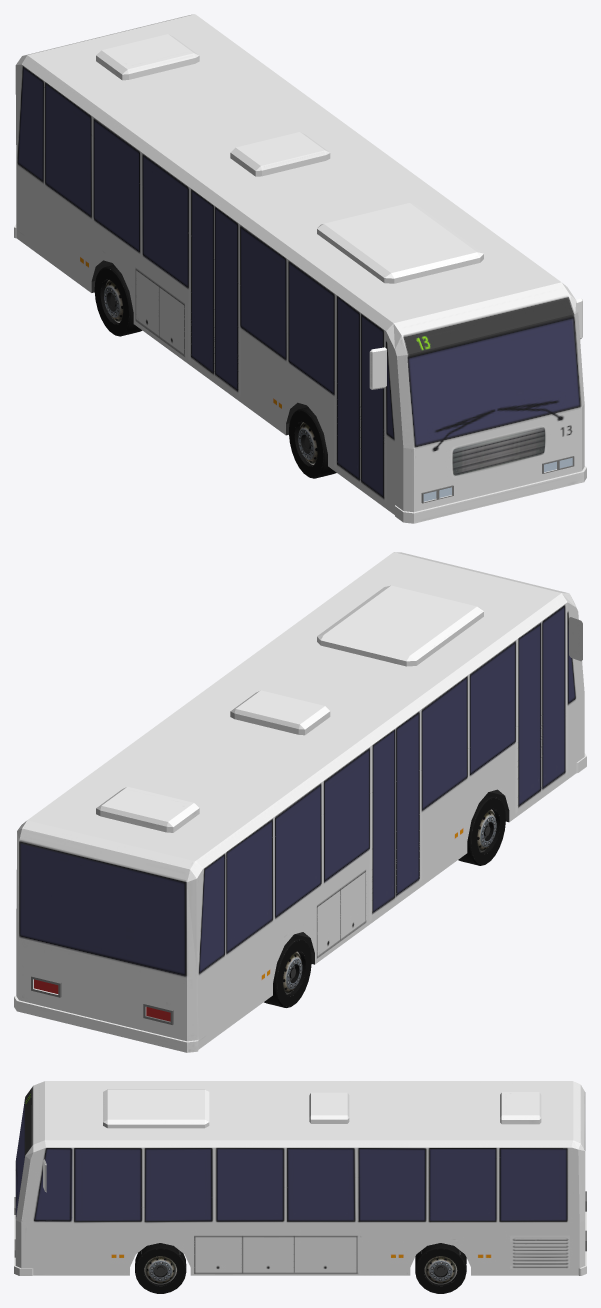
3 renders of one model, top to bottom at view 1: azimuth 30°, elevation 25°; view 2: azimuth 150°, elevation 25°; view 3: azimuth 270°, elevation 25°, orthographic. The views are drawn at different scales.
Visible parts, largest first — view 1: Cube_1, front_wheel_3; view 2: Cube_1, front_wheel_3; view 3: Cube_1, front_wheel_3.
Part boxes in pixels (x1=…): Cube_1: x1=14, y1=14, x2=586, y2=523; front_wheel_3: x1=94, y1=265, x2=336, y2=478; Cube_1: x1=14, y1=552, x2=586, y2=1052; front_wheel_3: x1=264, y1=794, x2=505, y2=1007; Cube_1: x1=14, y1=1081, x2=586, y2=1275; front_wheel_3: x1=135, y1=1243, x2=466, y2=1293.
Bounding box in the file's own units: 119 × 117 × 383.
Materials: 2 (2 with a texture image).
